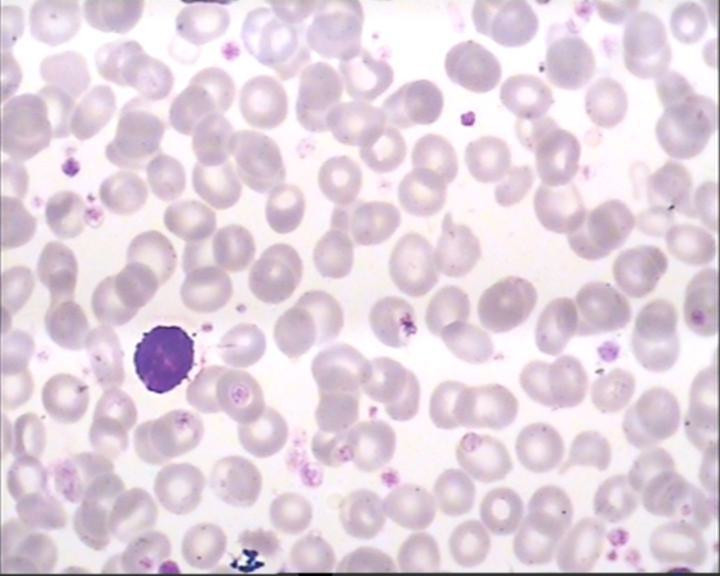baso: (126, 320, 199, 397)
